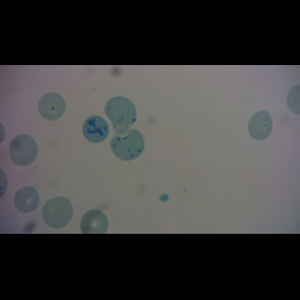aggregate reticulocyte: (82, 114, 111, 144)
erythrocyte: (40, 196, 74, 230), (8, 133, 39, 167), (246, 109, 274, 142), (37, 92, 67, 121), (13, 185, 41, 214), (79, 209, 108, 234)
punctate reticulocyte: (103, 95, 138, 132), (109, 128, 145, 162)
